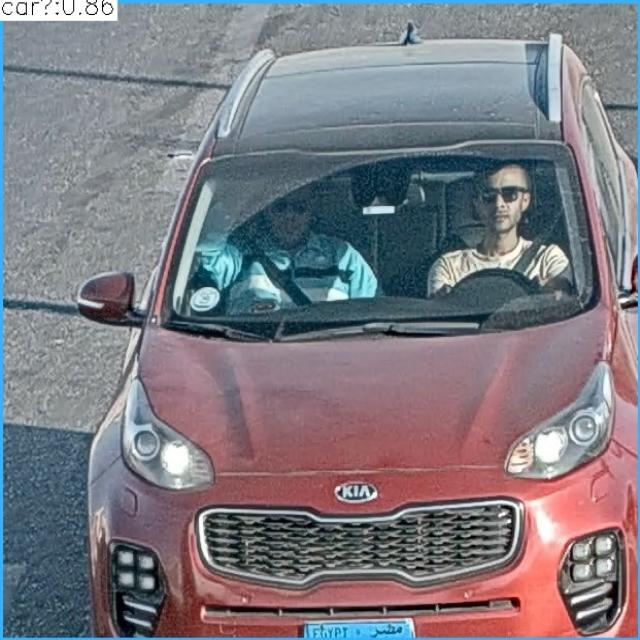windshield: (152, 154, 586, 324)
